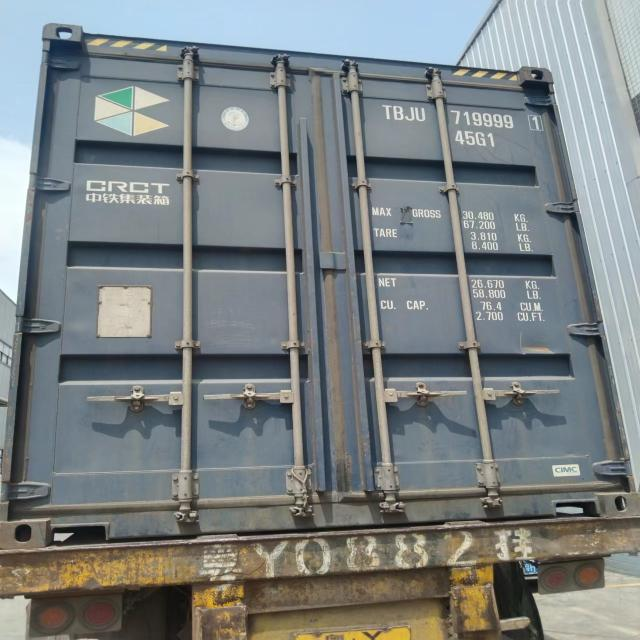ISO: (454, 130, 497, 149)
container_number: (382, 96, 550, 140)
